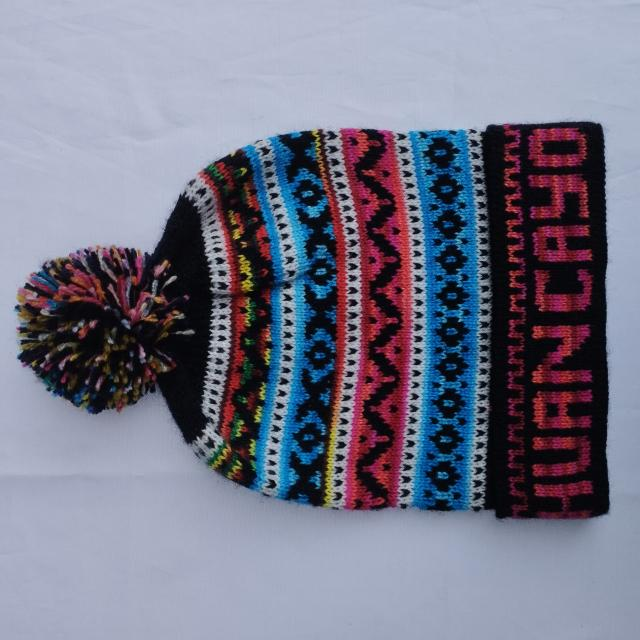Gorro: (15, 122, 611, 520)
